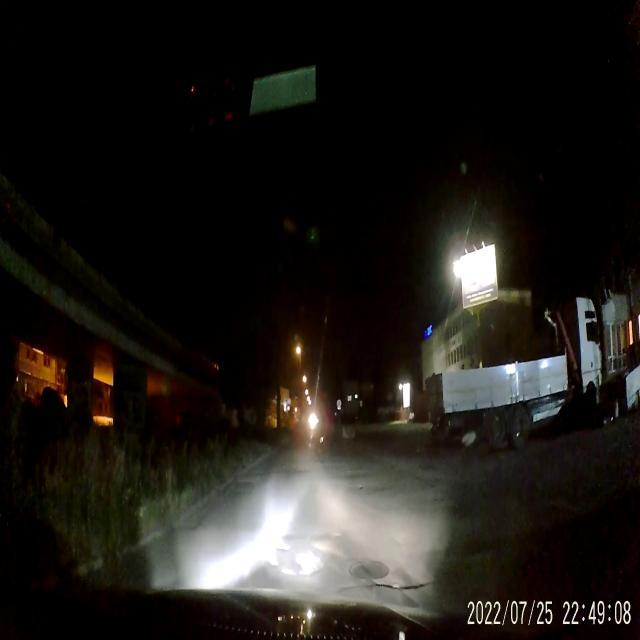Manhole: (347, 560, 391, 580)
Pothole: (290, 546, 325, 576)
